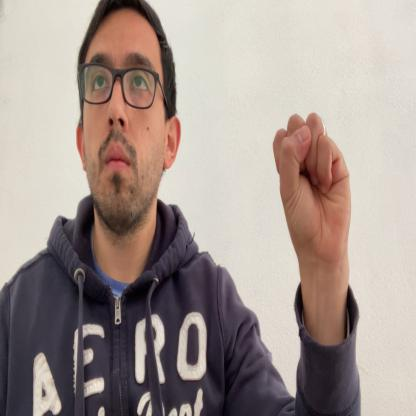S: (274, 111, 353, 257)
